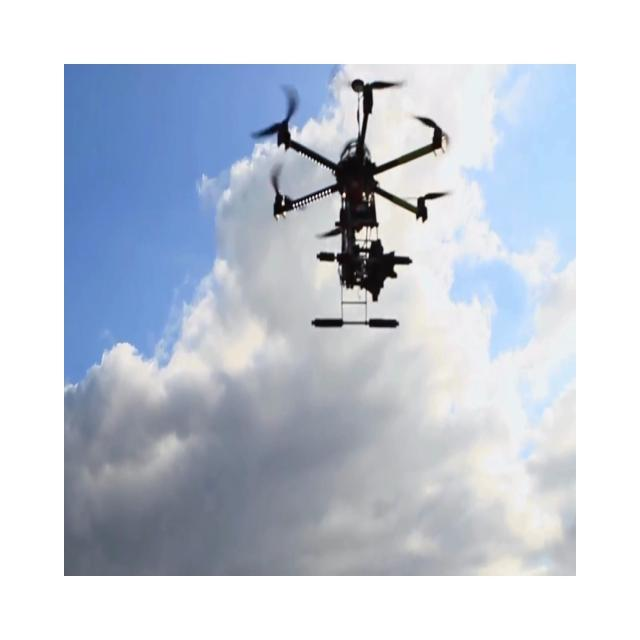drone: (250, 76, 452, 328)
